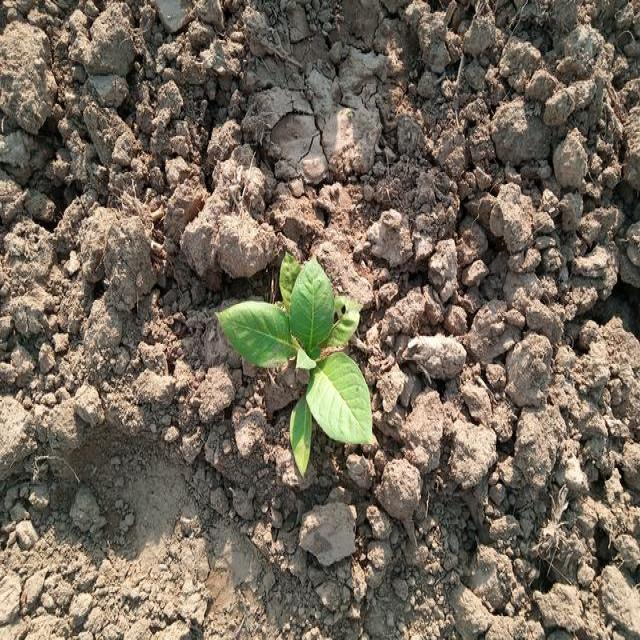crop: (230, 271, 372, 461)
